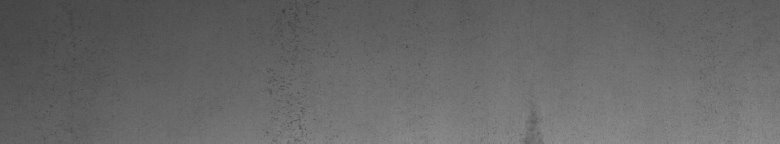ib: (268, 8, 337, 136)
